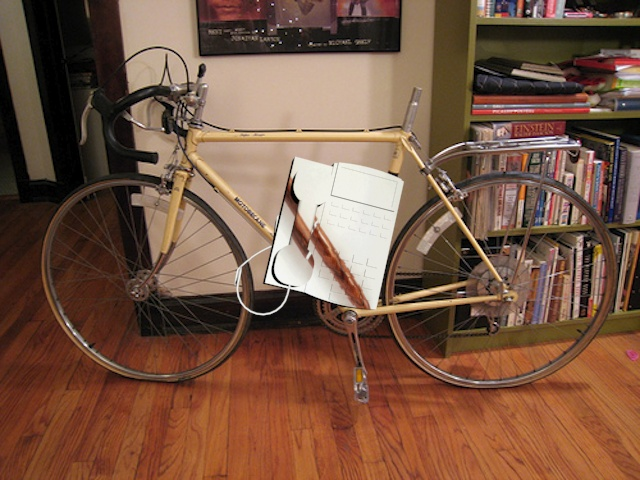phone: (233, 147, 416, 321)
